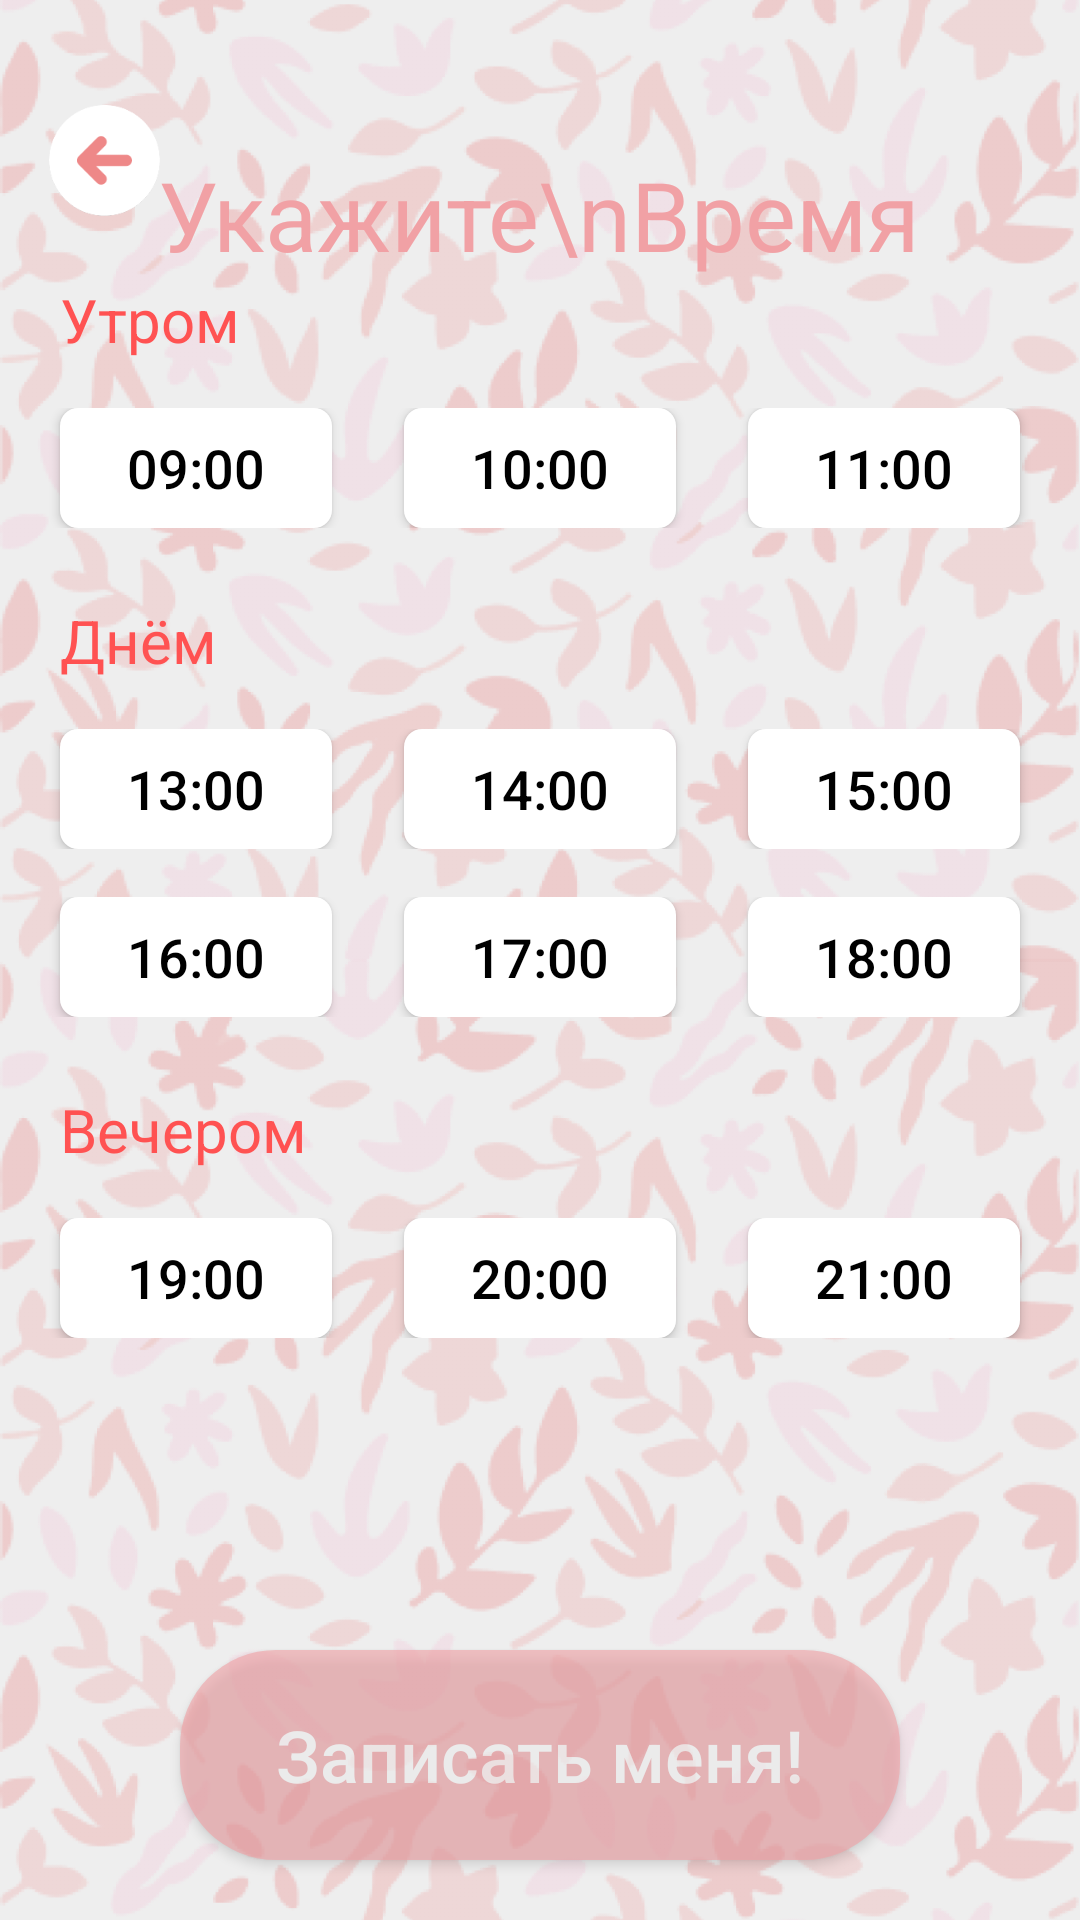

Locate icon controls on the screen. Image size 1080px x 1920px, boxes as [x1, y1, x2, y2].
back arrow: [49, 105, 160, 216]
